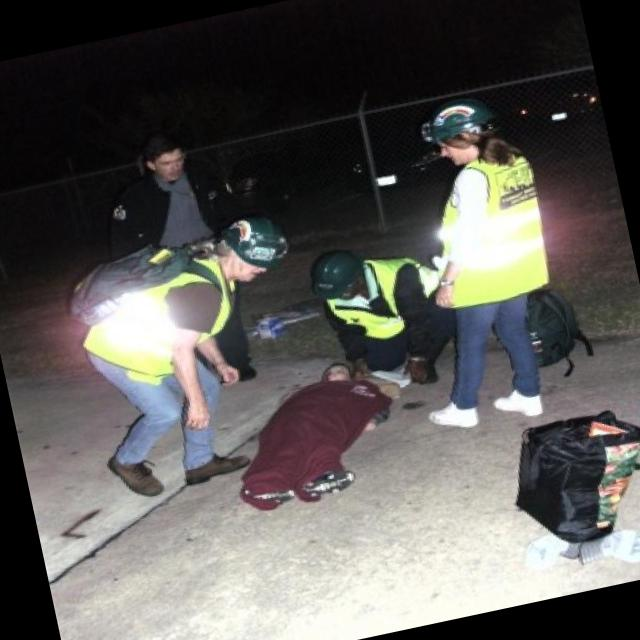hard_hat: (210, 204, 304, 286), (406, 87, 512, 155), (302, 241, 374, 308)
safety_vest: (76, 244, 235, 388), (419, 148, 559, 309), (324, 248, 441, 356)
work_boots: (99, 439, 172, 511), (172, 432, 256, 489)
